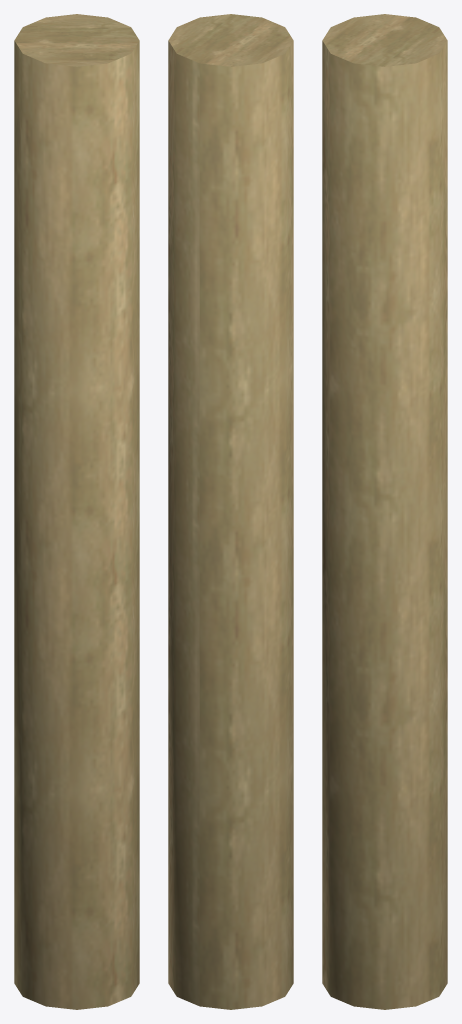
The model's file is farm-fenceWood-post-cbj_LOD01.gltf.
3 views of the same model, side by side, from view 1: azimuth 90°, elevation 25°; view 2: azimuth 150°, elevation 25°; view 3: azimuth 330°, elevation 25° (orthographic).
Visible parts, largest first — view 1: fence01; view 2: fence01; view 3: fence01.
Part boxes in pixels (x1=…): fence01: x1=14, y1=14, x2=139, y2=1009; fence01: x1=168, y1=14, x2=293, y2=1009; fence01: x1=322, y1=14, x2=447, y2=1009.
Bounding box in the file's own units: 0.2202 × 1.83 × 0.2202.
